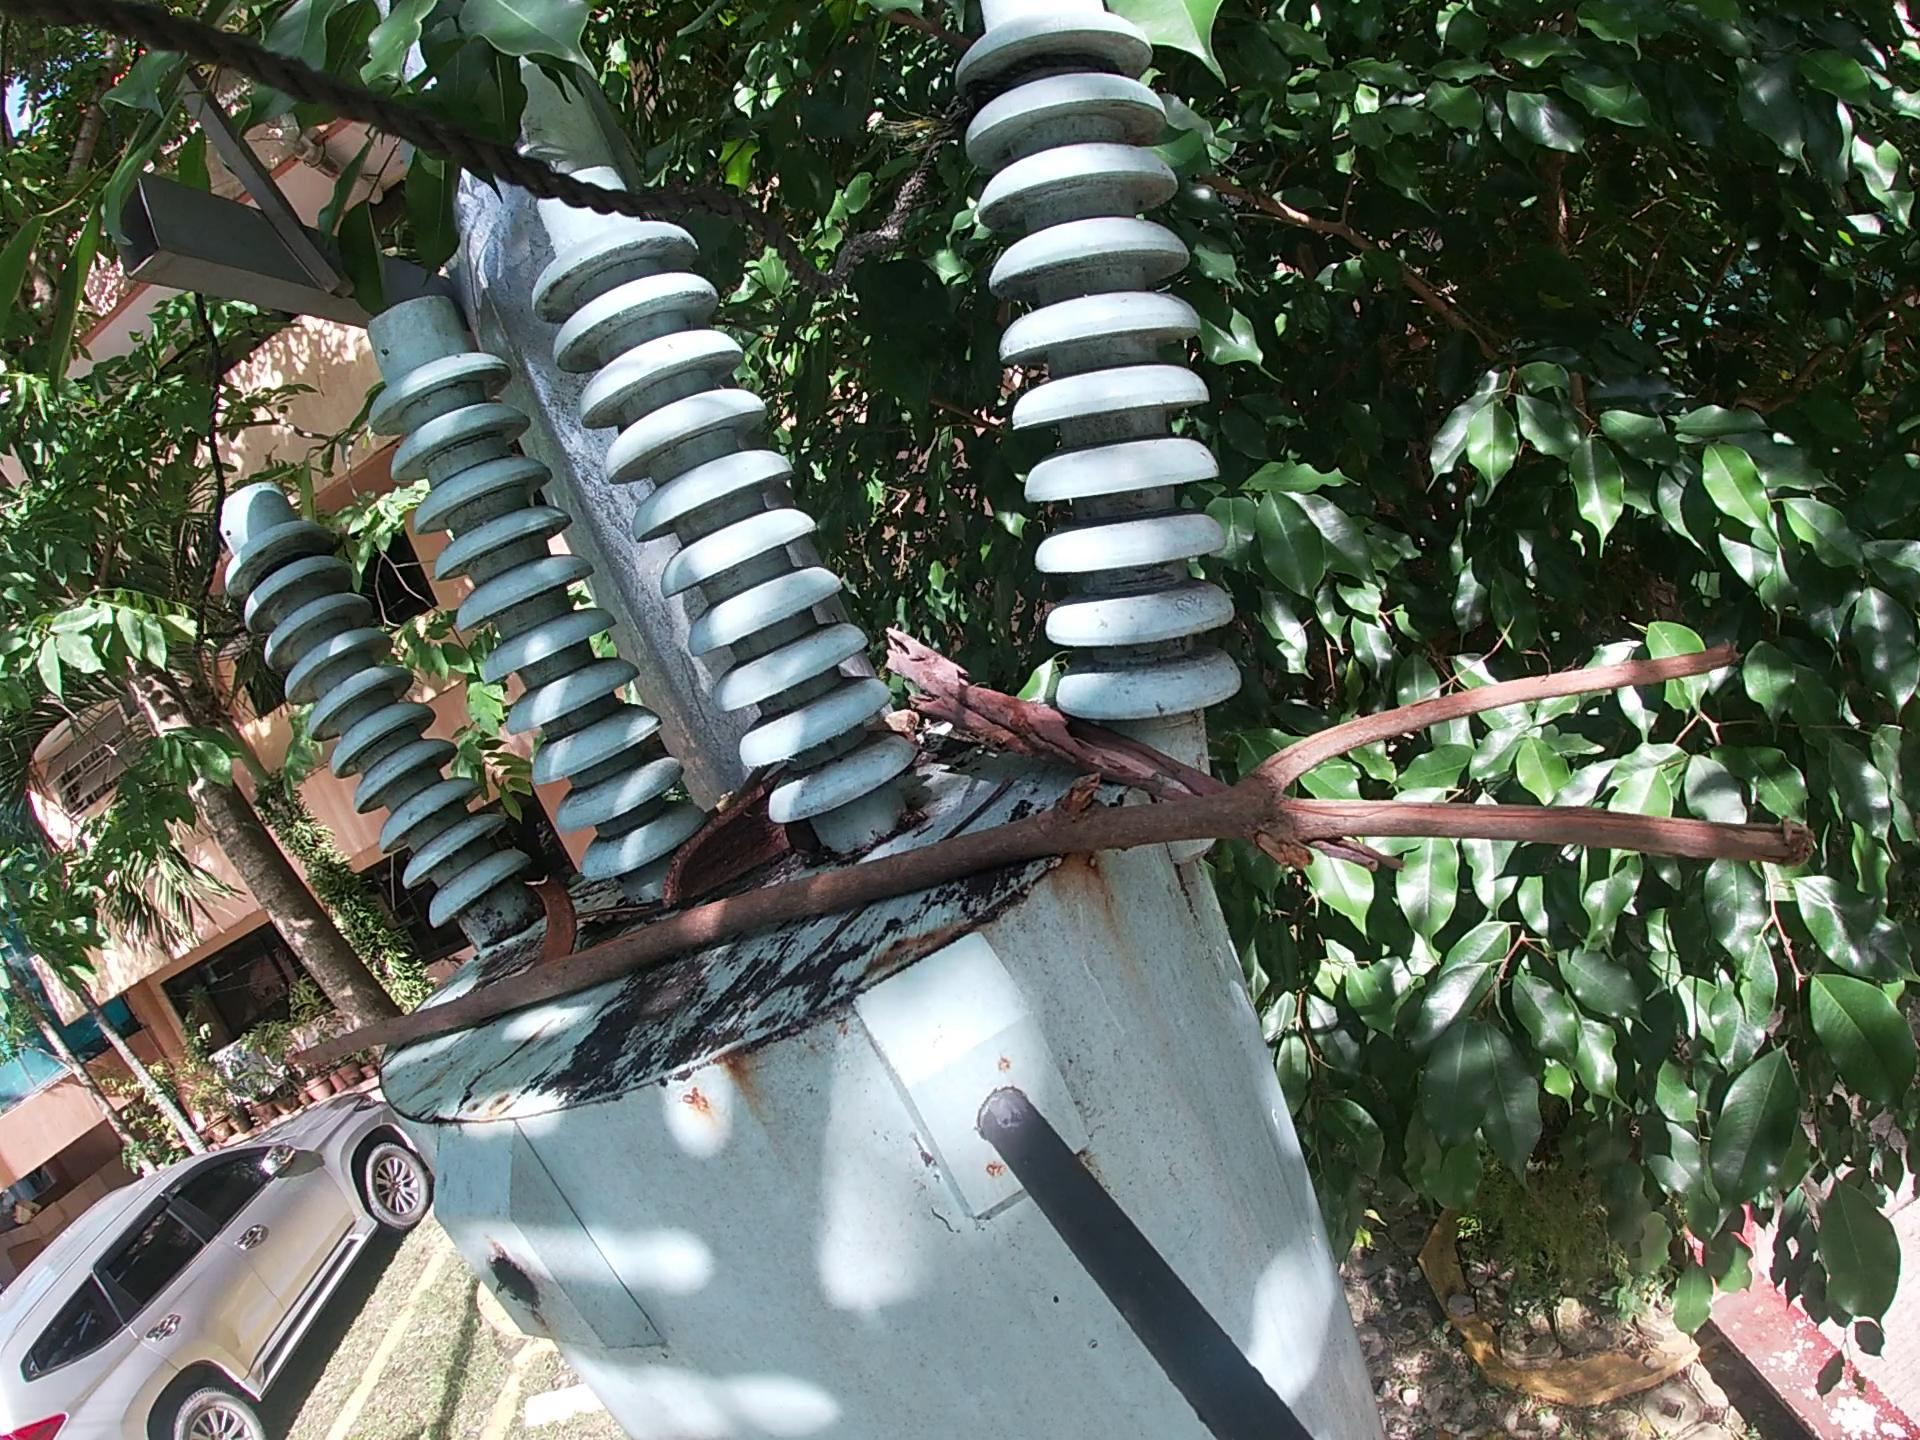mahogany fruit: (655, 770, 791, 920), (520, 862, 582, 979)
tree branch: (283, 638, 1825, 1085), (878, 628, 1407, 880)
